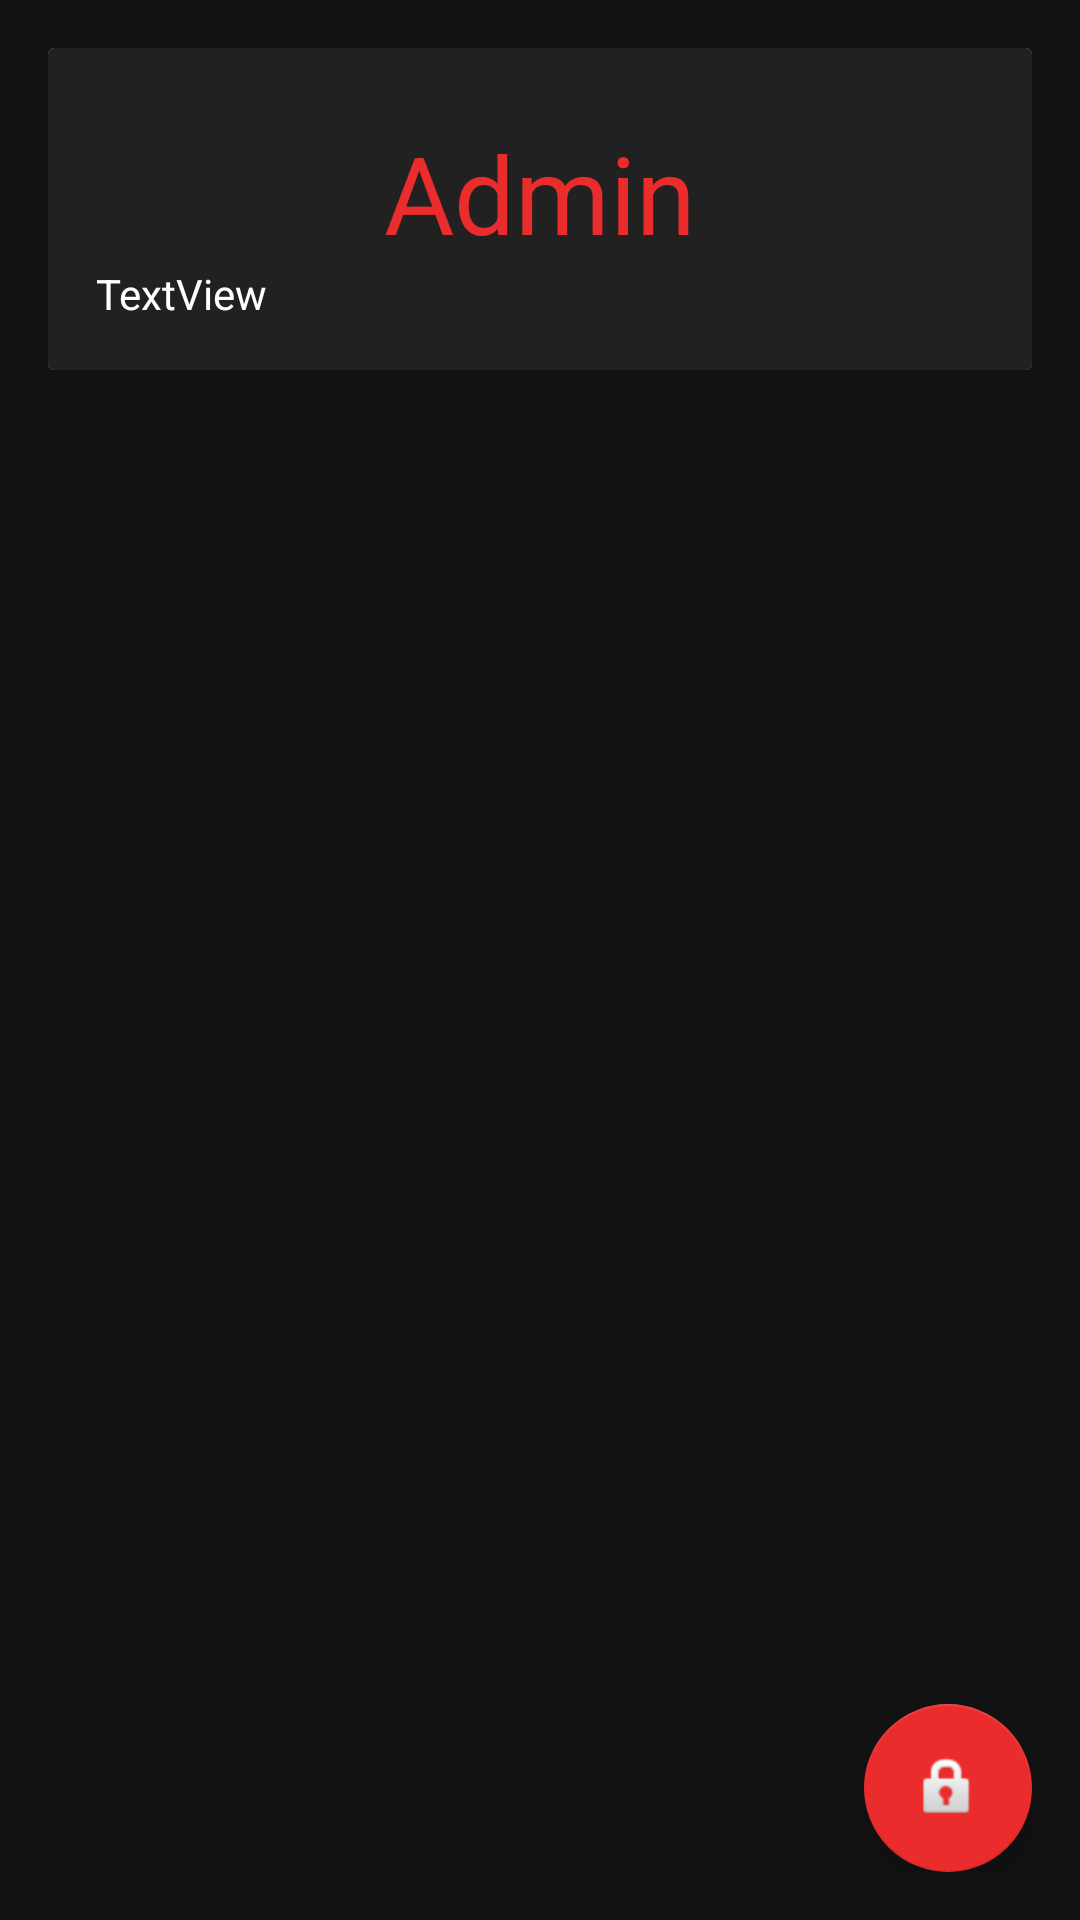

Named icons in this screenshot (1080 x 1920) and their centers, (x=x, y=y):
lock idle: (x=948, y=1788)
